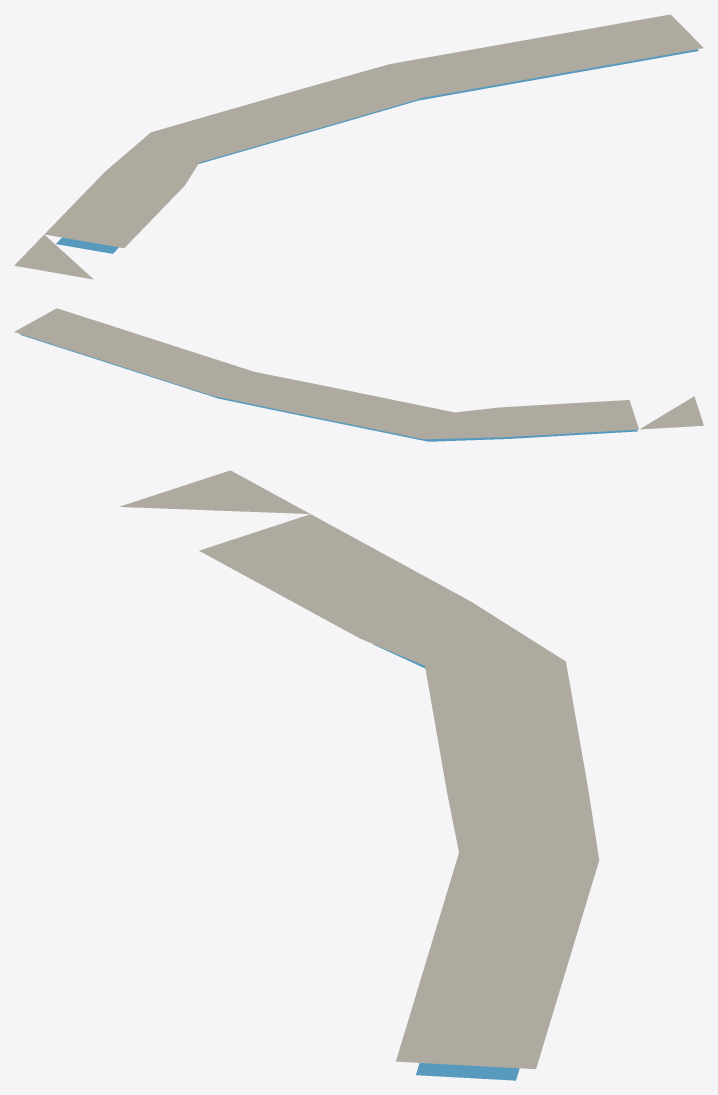
3 renders of one model, top to bottom at view 1: azimuth 30°, elevation 25°; view 2: azimuth 150°, elevation 25°; view 3: azimuth 270°, elevation 25°, orthographic. The views are drawn at different scales.
Parts seen in each view (by area): view 1: estructura_terreno, estructura_agua; view 2: estructura_terreno, estructura_agua; view 3: estructura_terreno, estructura_agua.
Boxes of the visible parts, x1,y1,x2,y2 form: estructura_terreno: (14,14,703,279); estructura_agua: (56,49,698,253); estructura_terreno: (14,308,703,439); estructura_agua: (20,334,637,441); estructura_terreno: (119,470,599,1069); estructura_agua: (373,644,519,1080).
Bounding box in the file's own units: 42.09 × 0.41 × 14.27.
